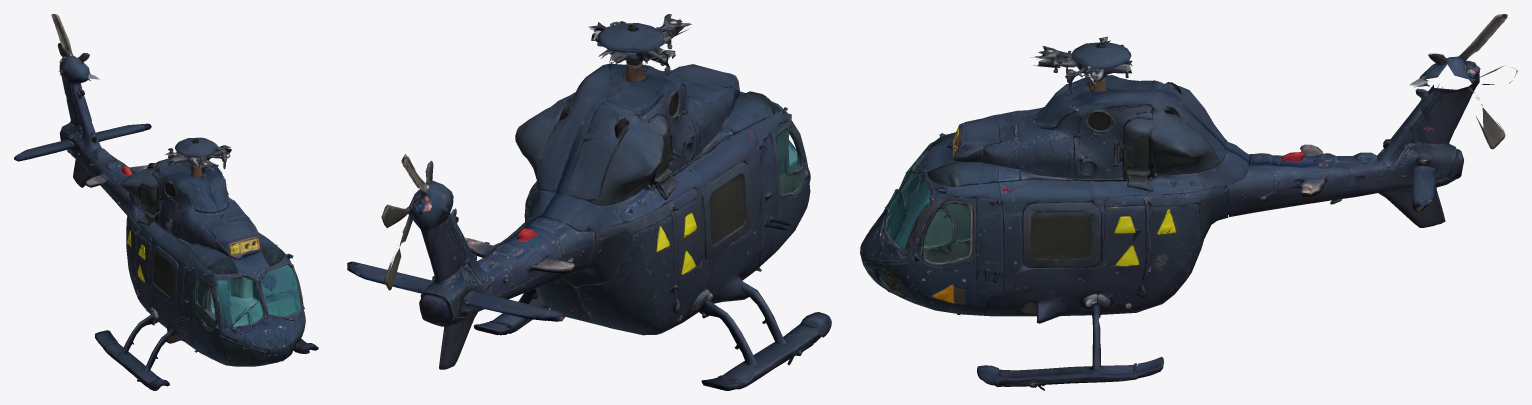
The model's file is helicopter.glb.
3 renders of one model, left to right at view 1: azimuth 30°, elevation 25°; view 2: azimuth 150°, elevation 25°; view 3: azimuth 270°, elevation 25°, orthographic. The views are drawn at different scales.
Visible parts, largest first — view 1: body; view 2: body; view 3: body.
Boxes of the visible parts, <box> form: body: <box>14,14,318,390</box>; body: <box>347,14,831,390</box>; body: <box>860,14,1517,390</box>.
Size of the model in its own units: 0.361 by 0.4813 by 0.8815.
1 material, 1 textured.
